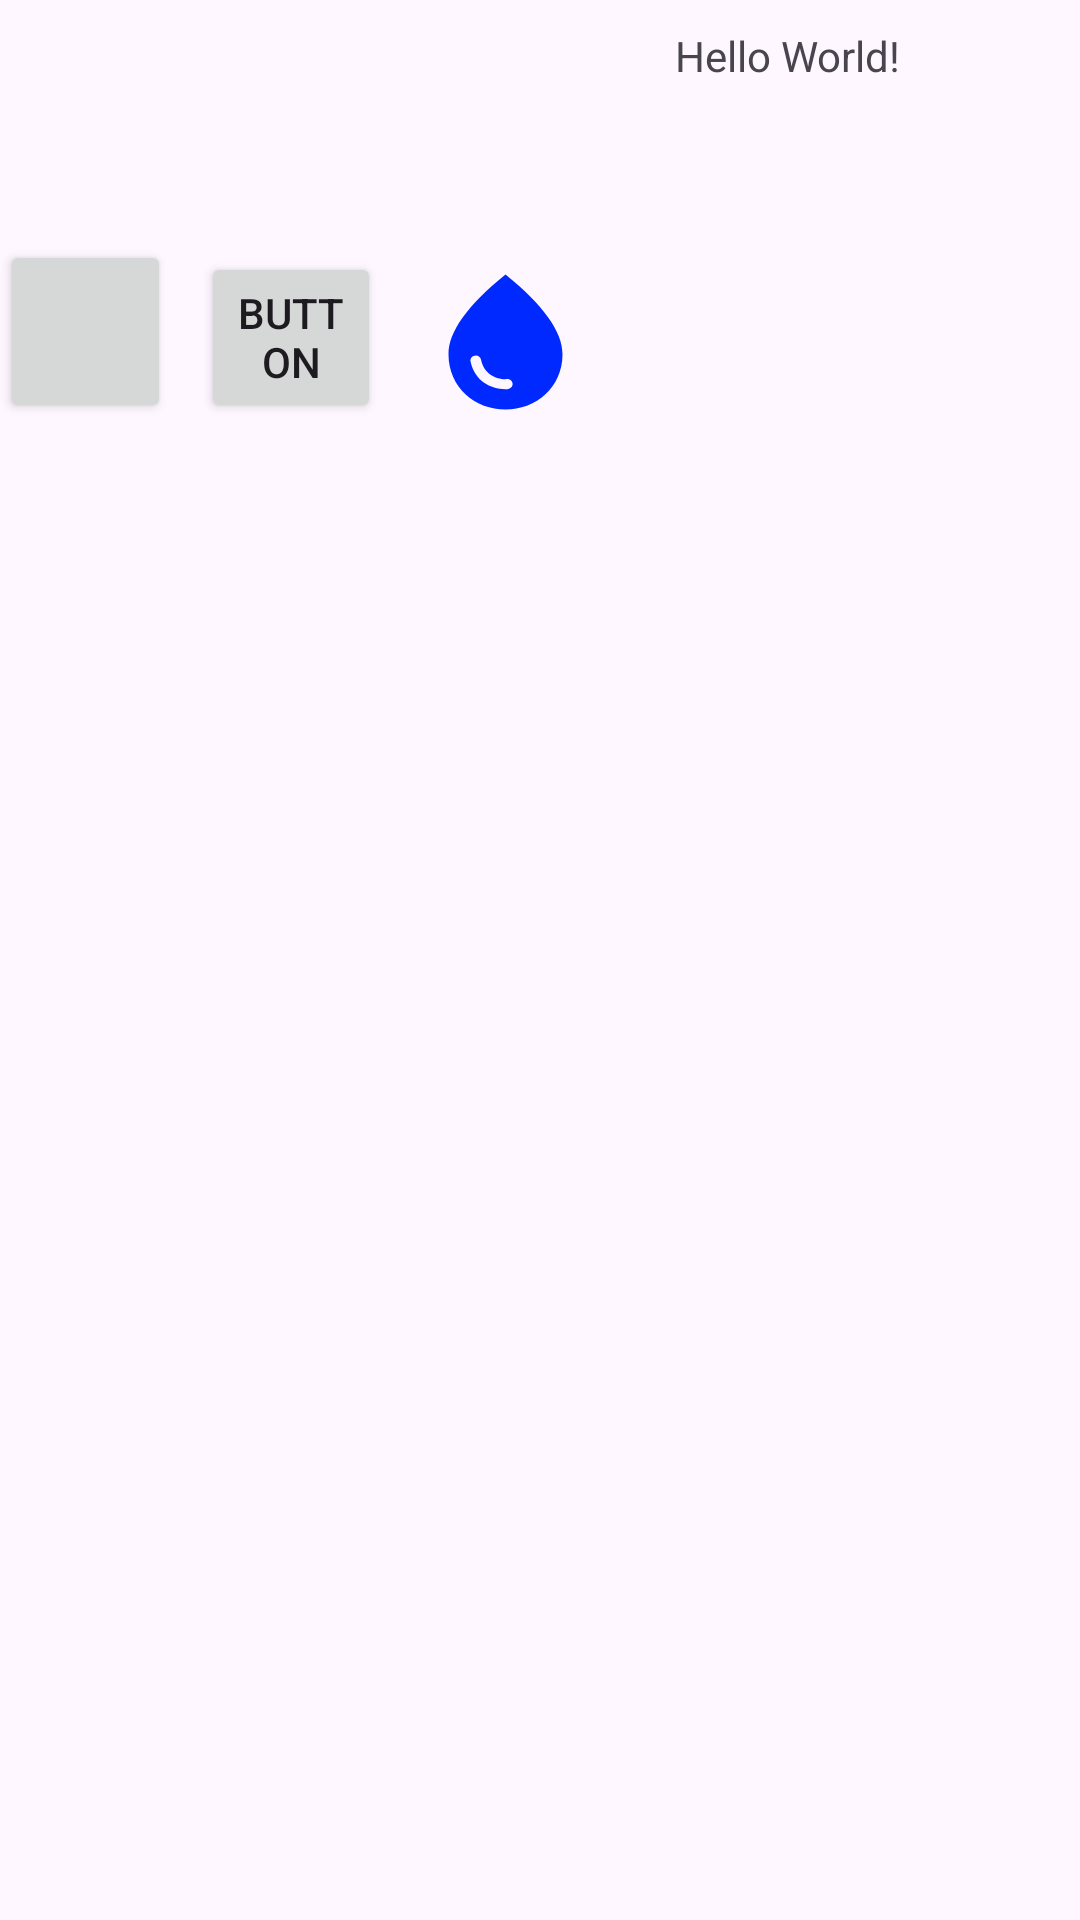

Icon bounding boxes for this 1080px×1920px phone screenshot, format bbox=[x1, y1, x2, y2]:
water drop: bbox=[448, 274, 563, 410]
